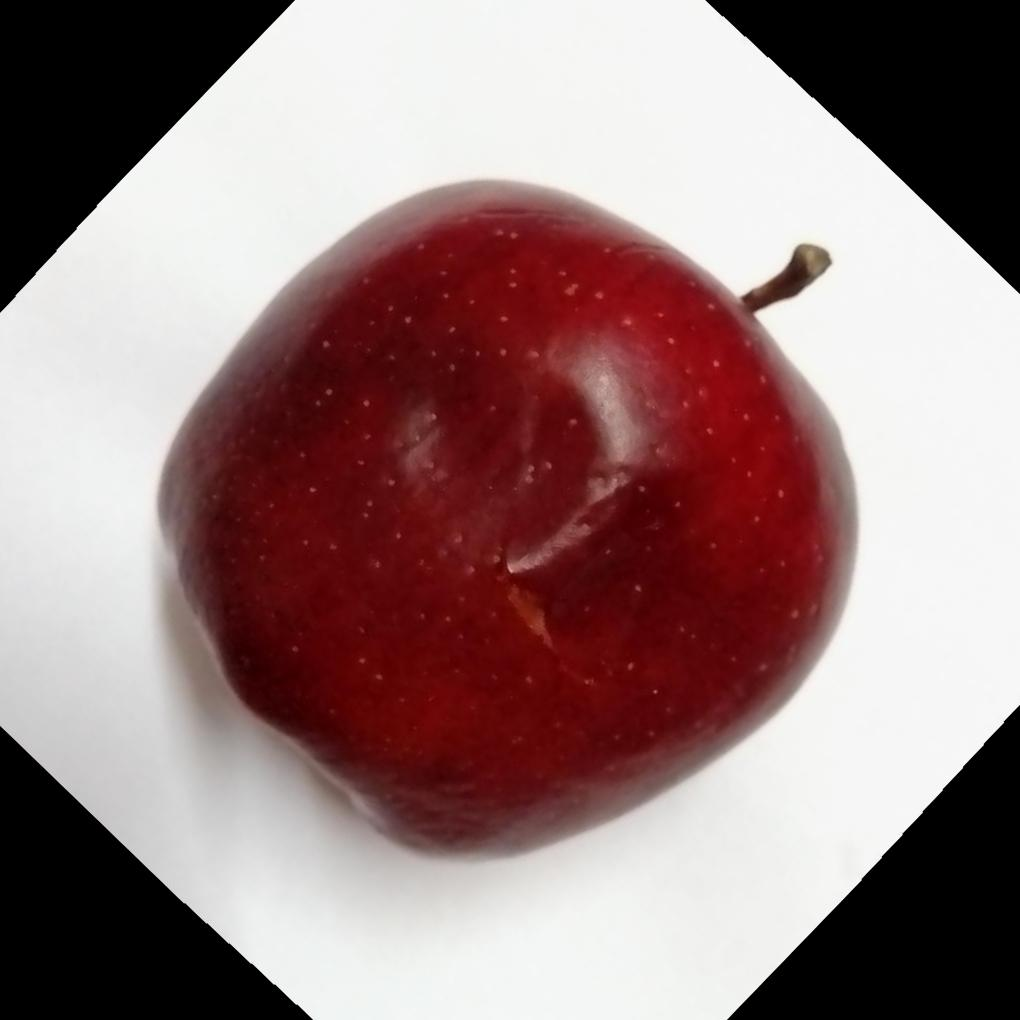FreshOrange: (157, 174, 863, 862)
